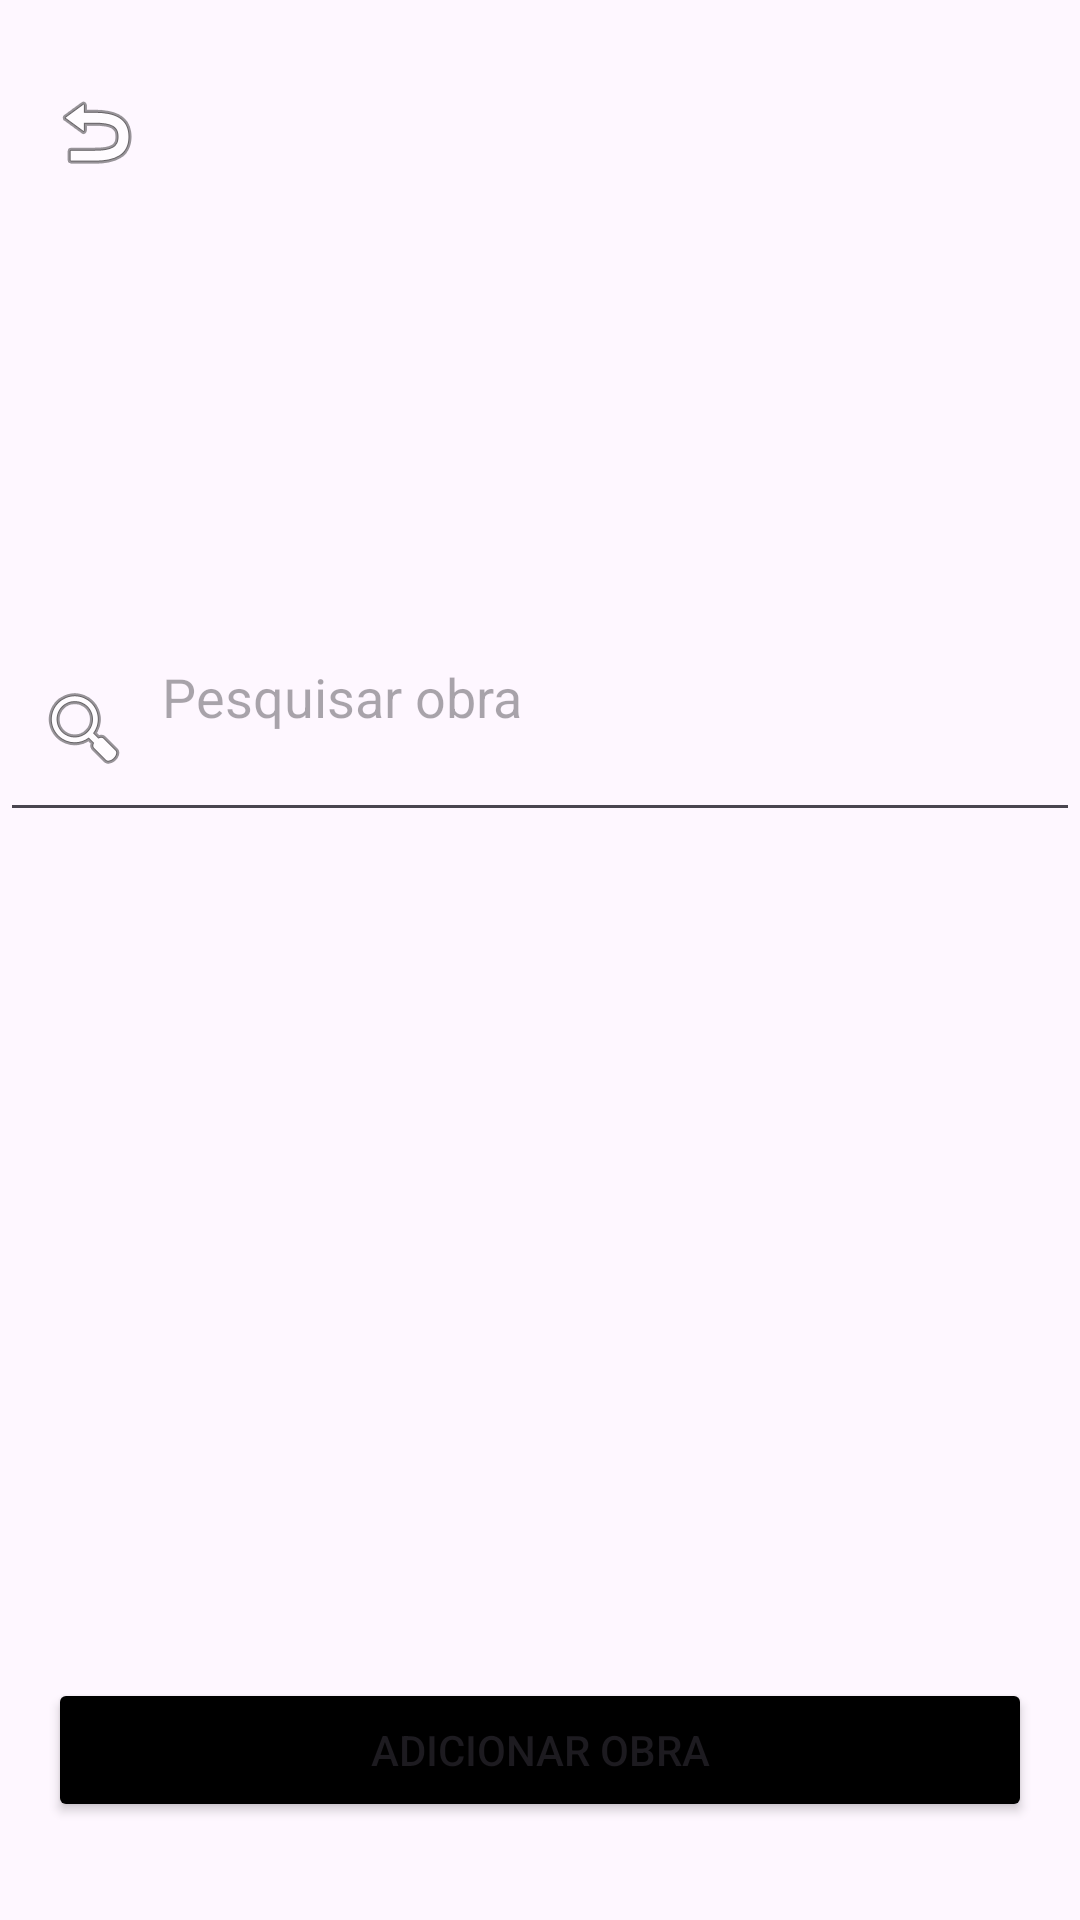

Screen size 1080px x 1920px. Icon name, then its box in pixels as [x1, y1, x2, y2]:
Voltar para home: [63, 101, 132, 164]
